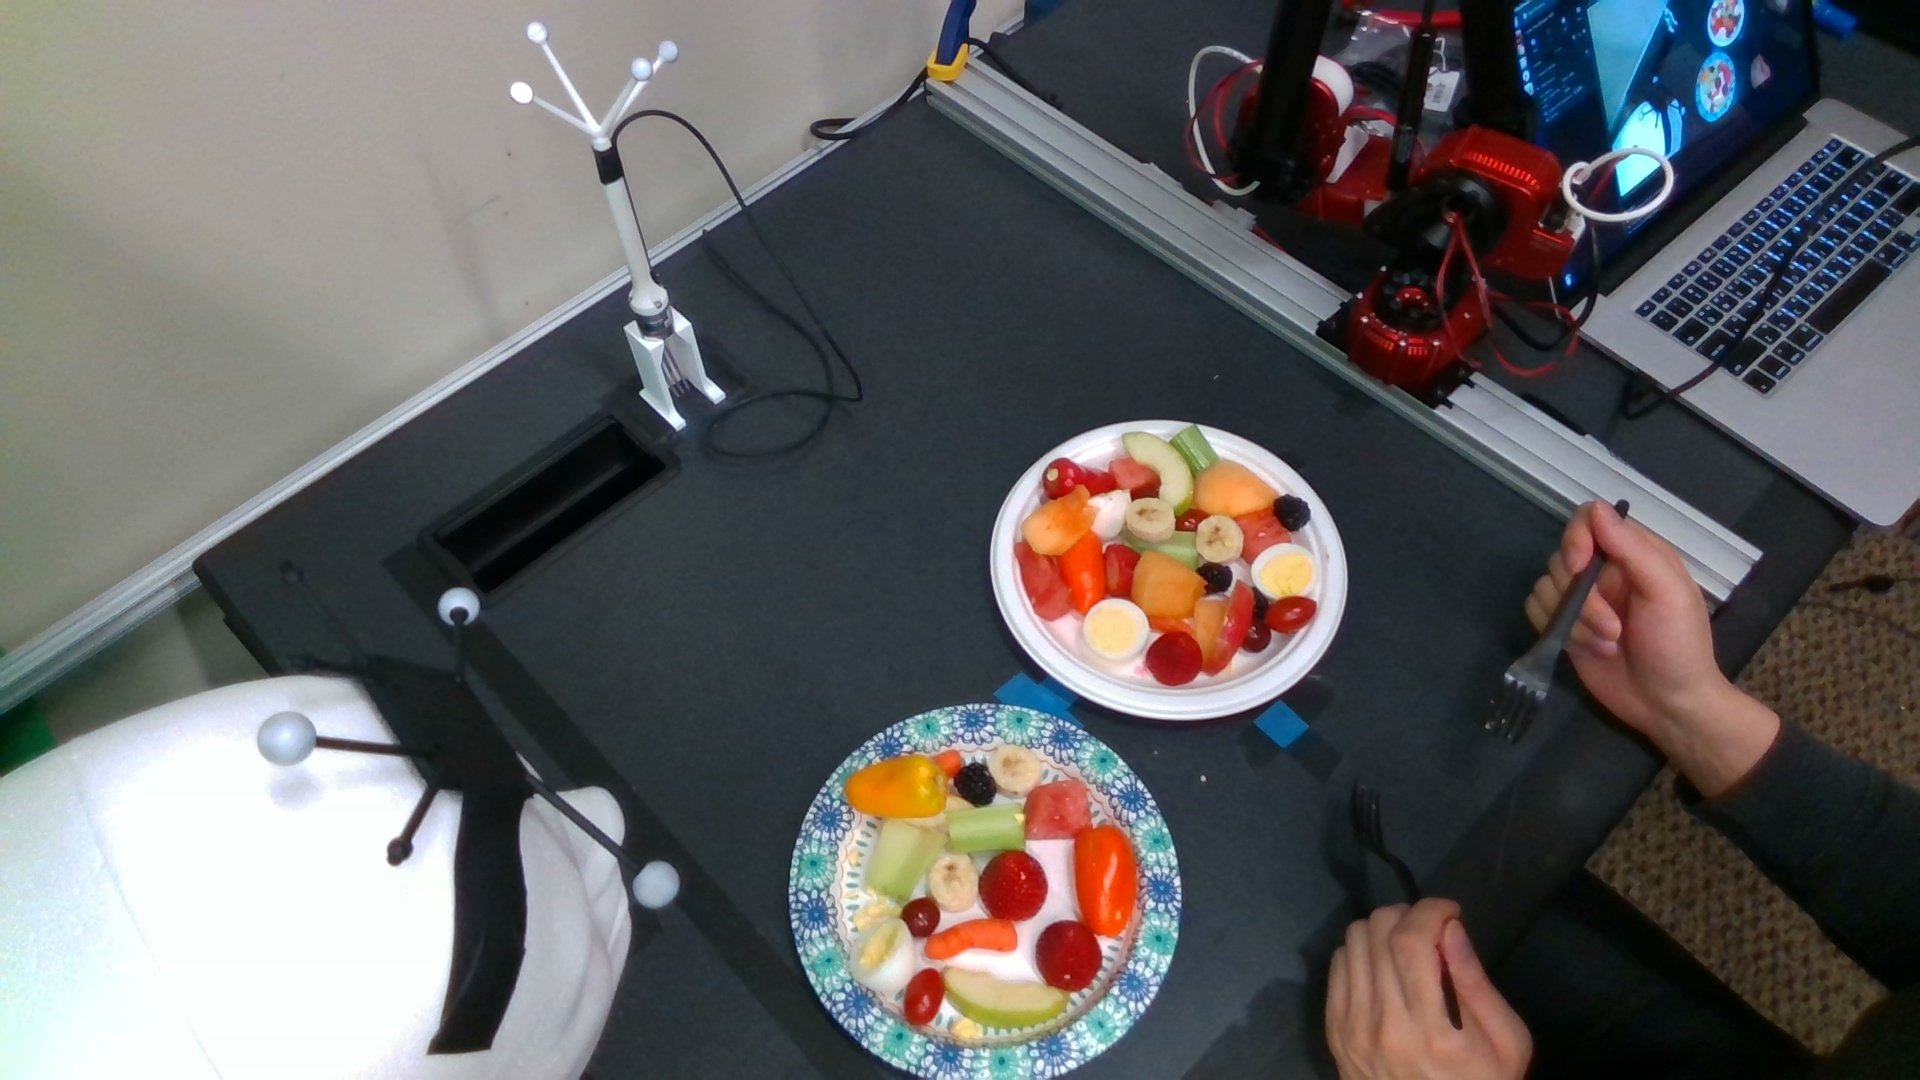apple: (943, 965, 1068, 1029), (1124, 433, 1193, 512), (1208, 579, 1251, 675)
banana: (928, 852, 978, 911), (989, 746, 1040, 795), (1126, 498, 1176, 542), (1197, 516, 1240, 560)
bell_pepper: (1073, 825, 1137, 936), (1058, 530, 1104, 613), (1044, 459, 1121, 497)
blackberry: (955, 764, 997, 807), (1275, 495, 1309, 531)
cantalope: (1021, 483, 1098, 555), (1193, 459, 1278, 514), (1133, 554, 1204, 616)
carrot: (847, 754, 947, 818), (927, 914, 1018, 957)
celery: (865, 820, 947, 901), (1171, 425, 1218, 473)
cherry_tomato: (905, 968, 945, 1026), (1263, 595, 1317, 632)
egg: (851, 918, 915, 993), (1081, 596, 1146, 655), (1251, 543, 1317, 599)
grape_purple: (903, 899, 942, 939)
melon: (1014, 542, 1069, 620), (1019, 785, 1088, 843)
strawberry: (978, 849, 1048, 920), (1034, 922, 1102, 992), (1146, 632, 1203, 686), (1102, 546, 1138, 595)
